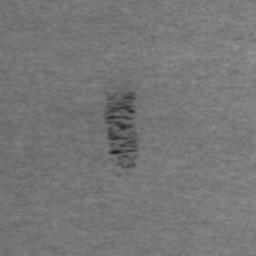Secondary rust skin: (105, 92, 140, 170)
